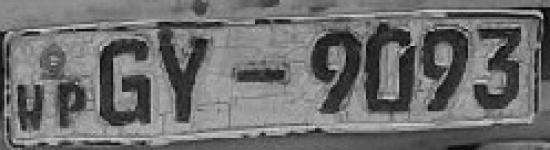-: (225, 57, 295, 99)
0: (362, 24, 419, 120)
3: (470, 24, 528, 114)
9: (303, 25, 364, 123), (418, 20, 473, 118)
G: (94, 33, 155, 129)
P: (54, 79, 88, 133)
W: (12, 77, 47, 138)
Y: (157, 29, 220, 129)
